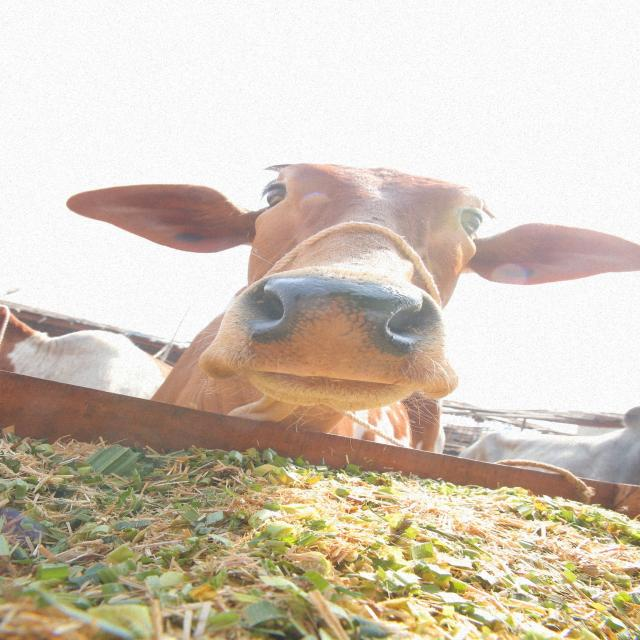muzzles: (250, 274, 435, 391)
